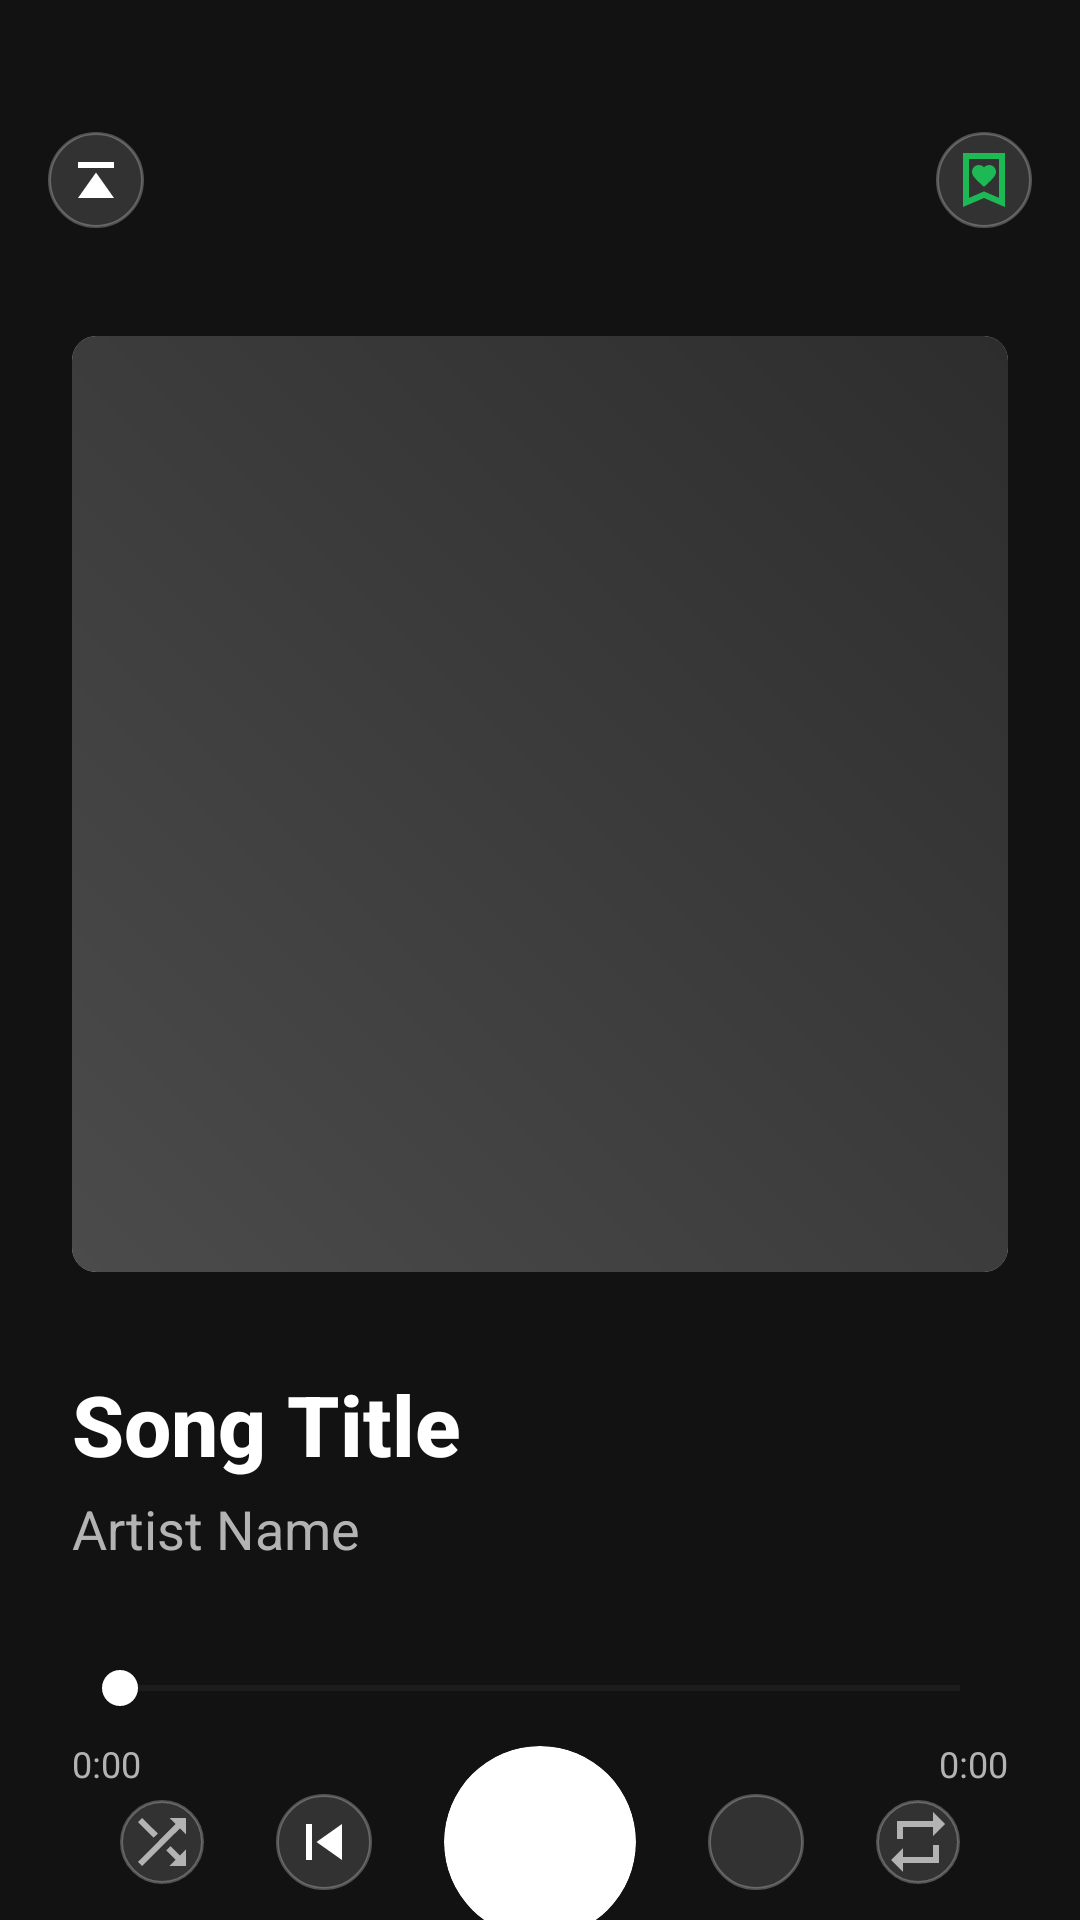

Icons on this 1080x1920 Android screen, each with its box as (x1, y1, x2, y2):
Like: (936, 132, 1032, 228)
Previous: (276, 1794, 372, 1890)
Repeat: (876, 1800, 960, 1884)
Shuffle: (120, 1800, 204, 1884)
